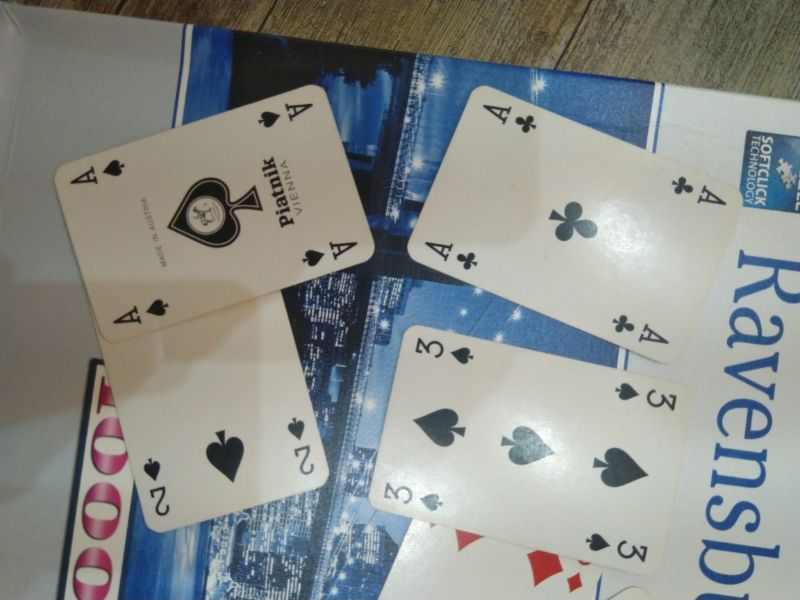2s: (138, 451, 174, 518), (283, 412, 316, 479)
3s: (585, 527, 654, 564), (378, 477, 446, 513), (609, 379, 679, 413), (411, 335, 479, 367)
Ac: (667, 172, 730, 211), (609, 312, 671, 348), (478, 100, 541, 135), (424, 236, 481, 274)
As: (105, 293, 175, 331), (257, 91, 315, 134), (297, 231, 360, 270), (67, 153, 127, 191)
